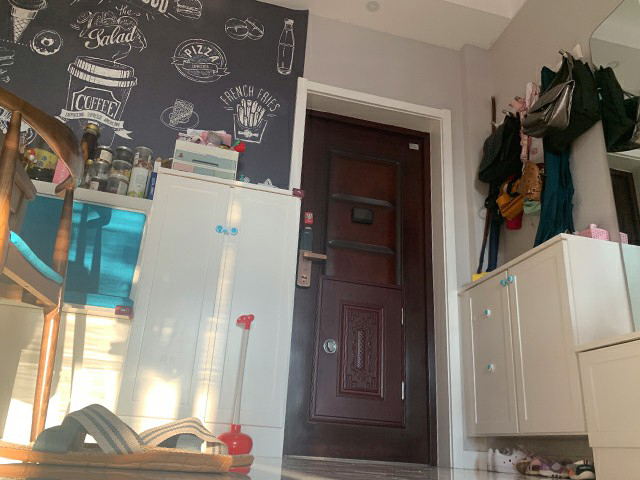cabinet: (113, 166, 304, 458), (571, 330, 640, 480)
slippers: (1, 403, 255, 479)
